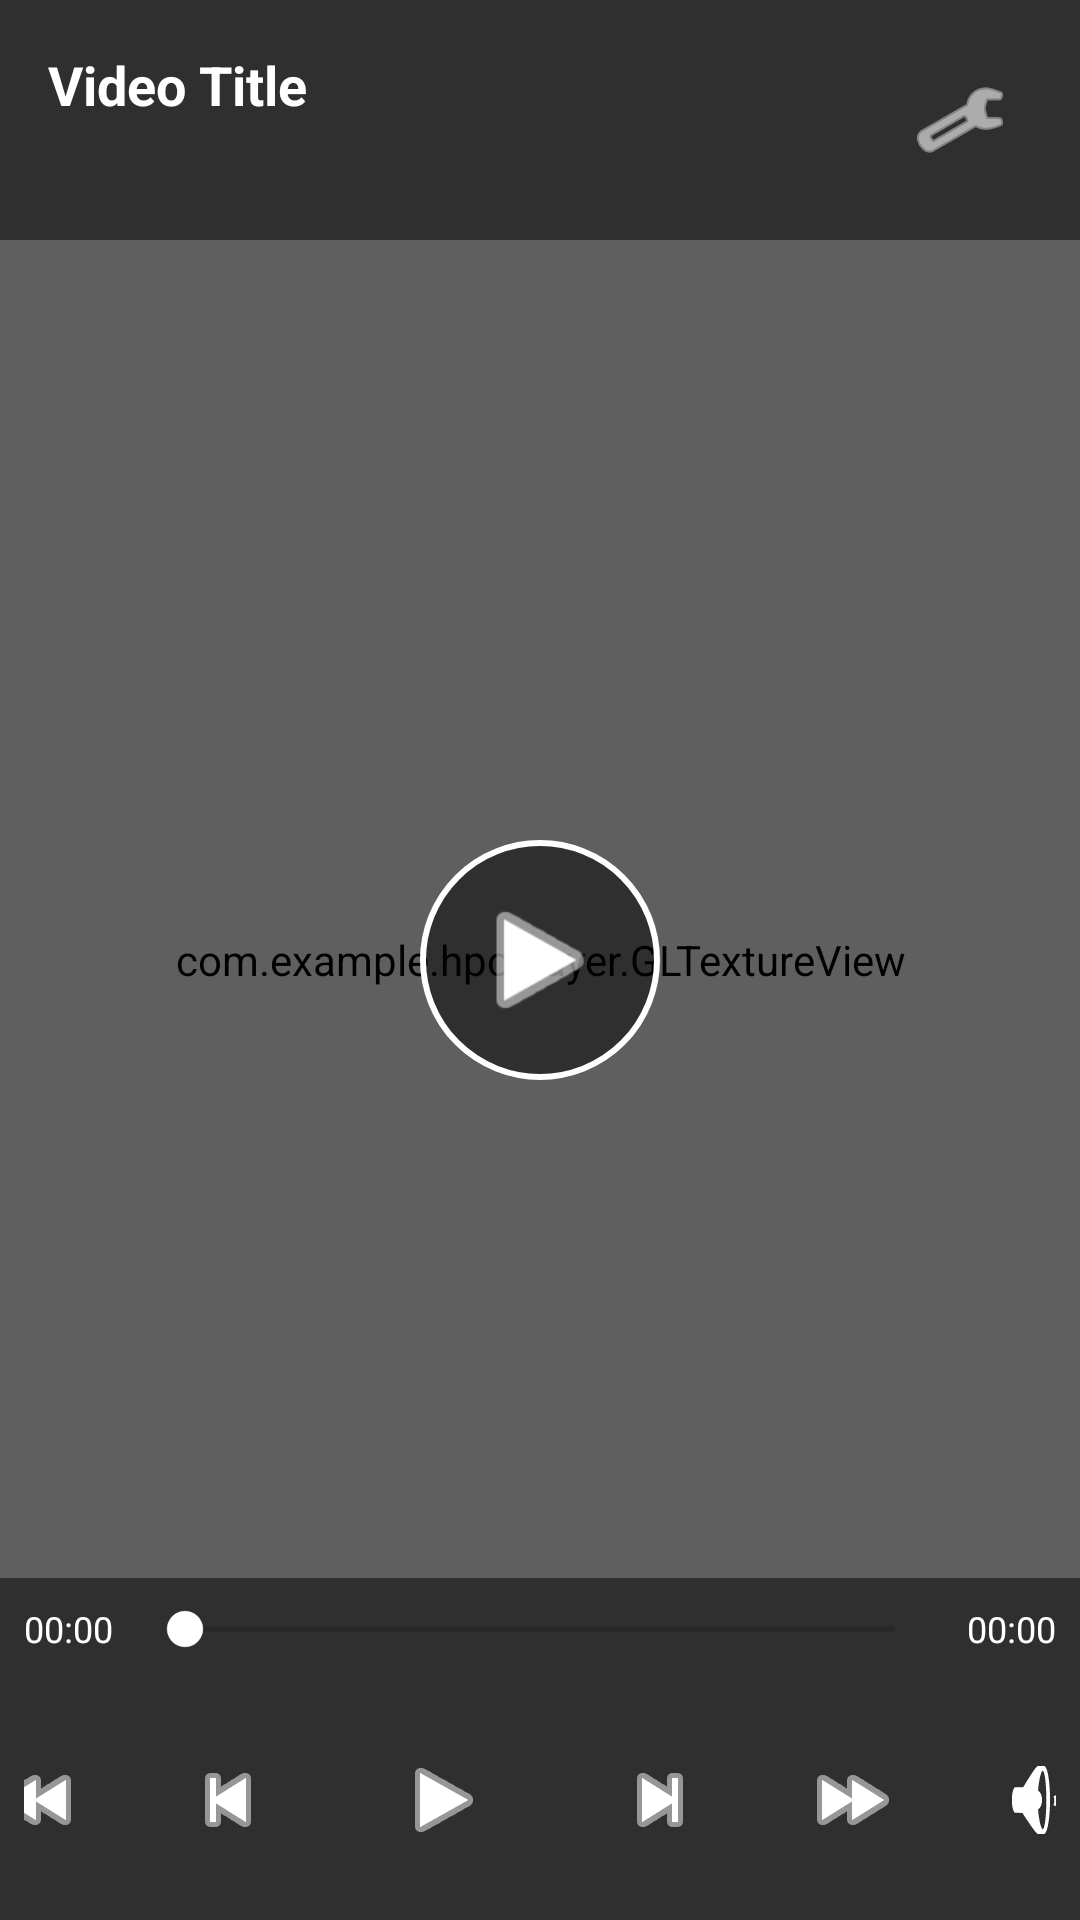

Named icons in this screenshot (1080*1920) and their bounding boxes, (x1, y1, x2, y2):
Fast Forward 10s: (817, 1775, 889, 1825)
Next: (637, 1773, 683, 1827)
Play/Pause: (415, 1768, 473, 1832)
Previous: (205, 1773, 251, 1827)
Settings: (917, 87, 1003, 153)
